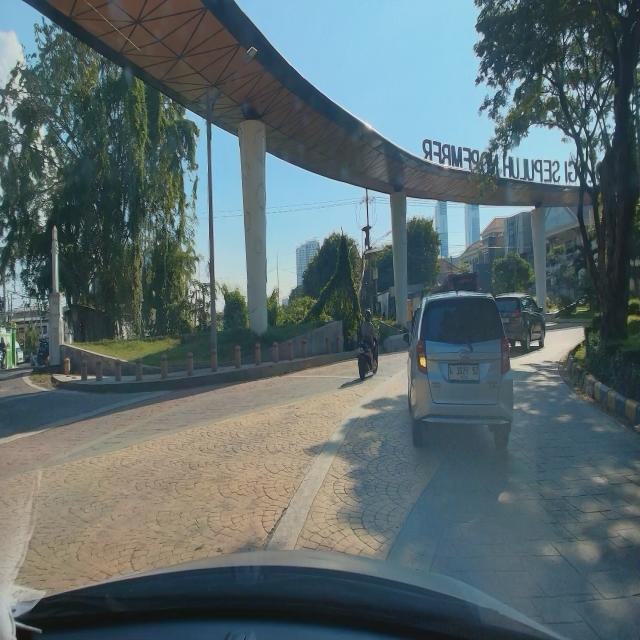car: (401, 288, 520, 457), (486, 290, 548, 352)
license-plate: (446, 358, 482, 386), (498, 315, 512, 328)
